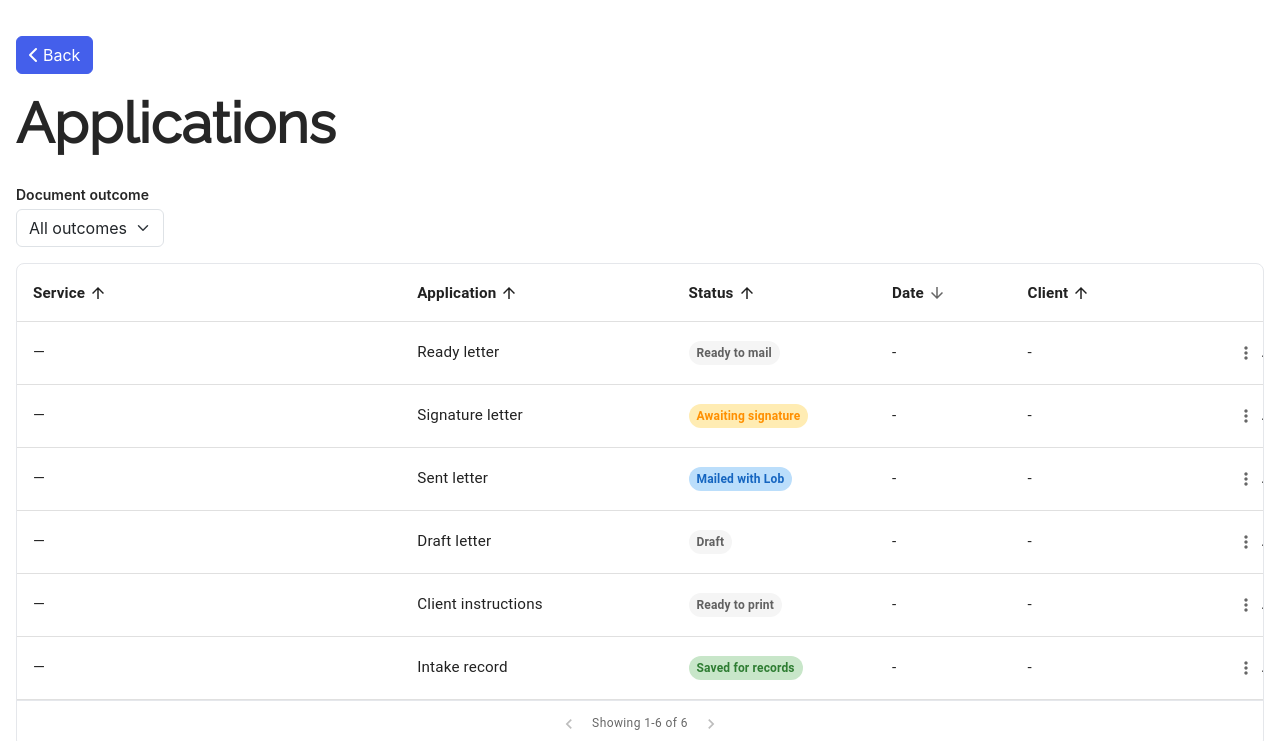
Scenario: filters mail work by readiness and preserves print and record statuses
Expected: the text "Ready letter" is shown, [401,322,672,385]
Expected: the text "Ready to print" is shown, [688,593,782,617]
Select "Mail" in the dropdown labelled "Document outcome" at (90, 228), box [16,209,164,247]
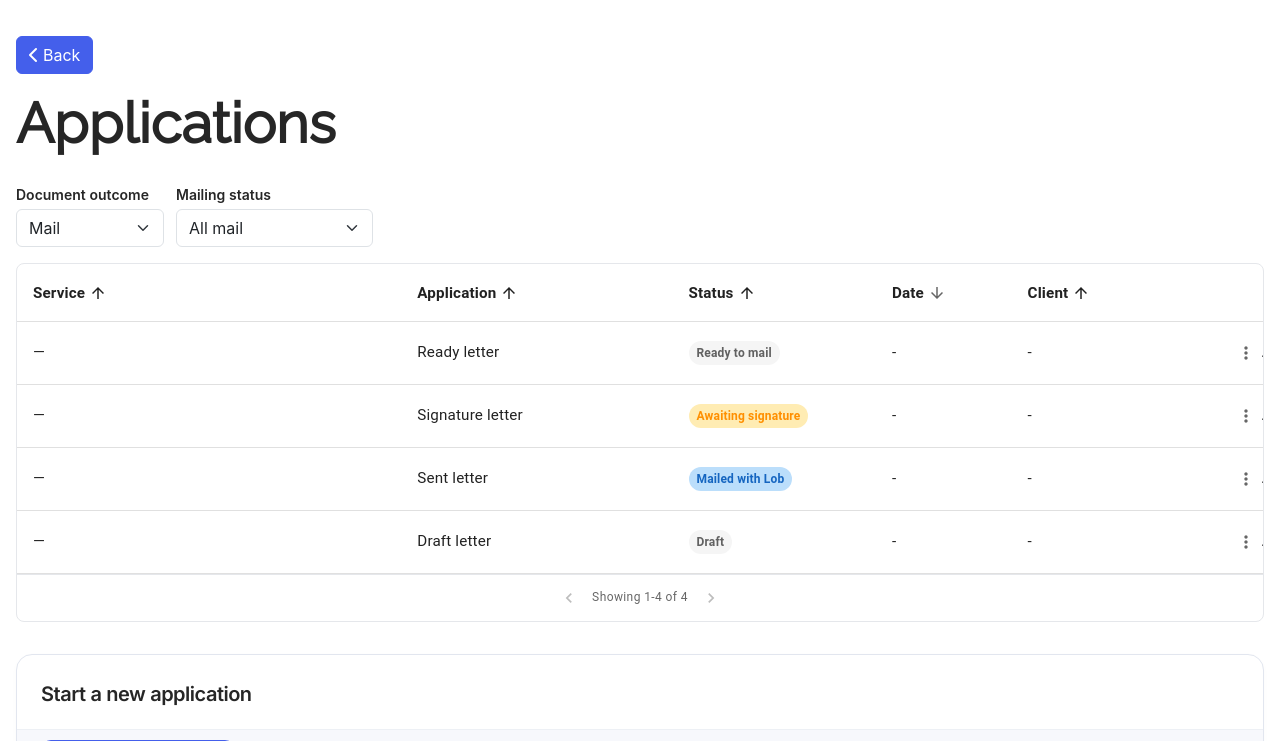
Now the button "Client instructions" is gone
Select "Needs to be mailed" in the dropdown labelled "Mailing status" at (274, 228), box [176,209,373,247]
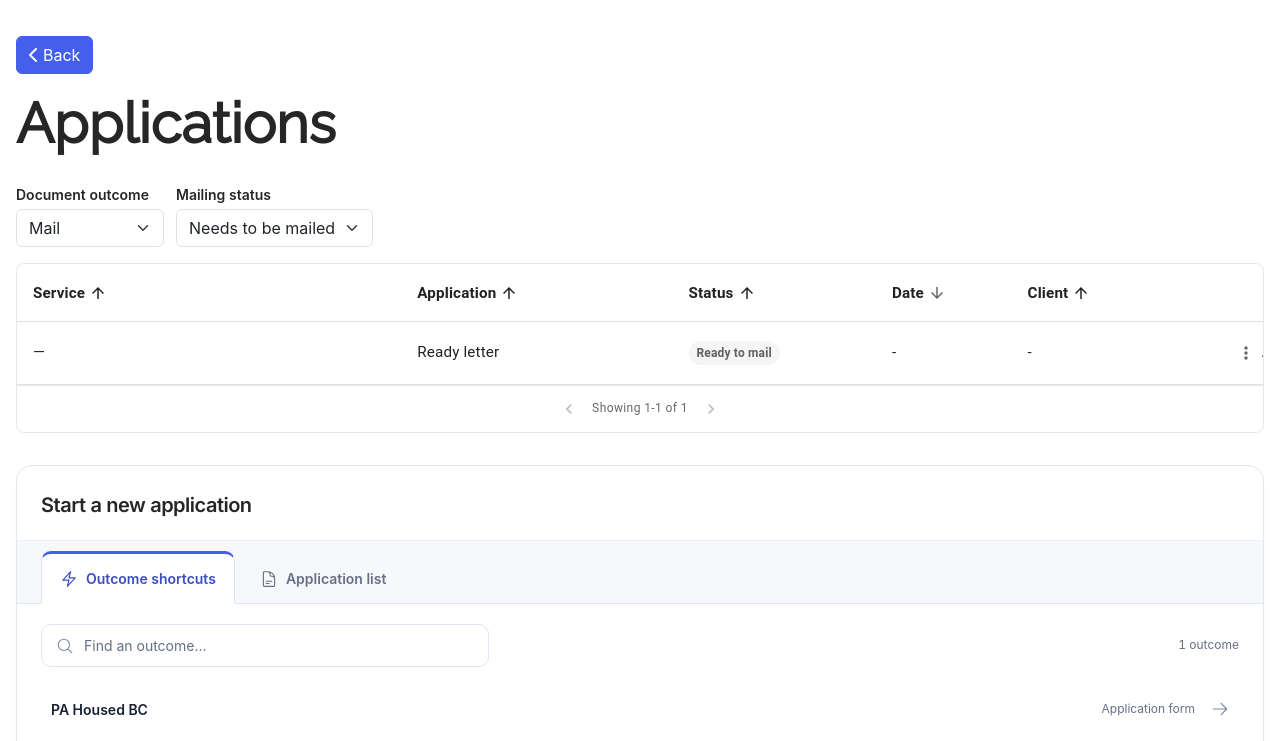
Now the button "Signature letter" is gone
Now the button "Sent letter" is gone
Now the button "Draft letter" is gone
Select "Already mailed" in the dropdown labelled "Mailing status" at (274, 228), box [176,209,373,247]
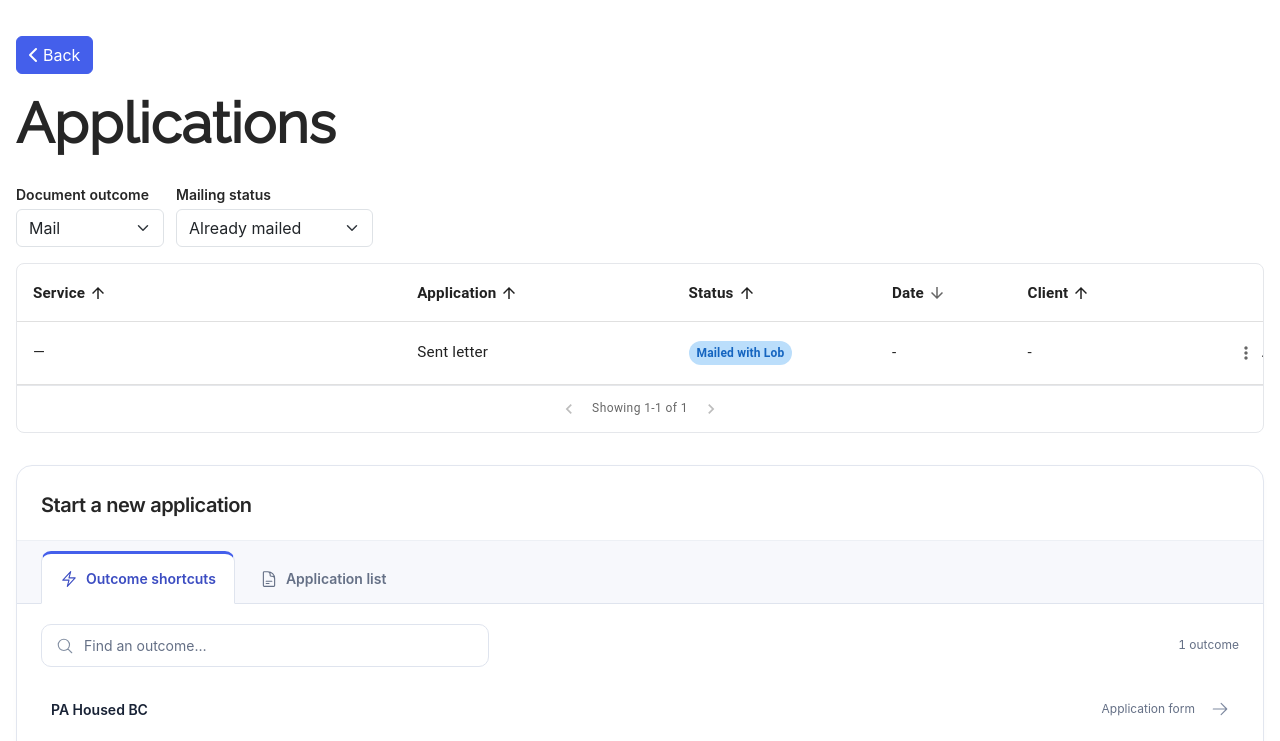
Now the text "Sent letter" is shown, box [401,322,672,385]
Select "Print only" in the dropdown labelled "Document outcome" at (90, 228), box [16,209,164,247]
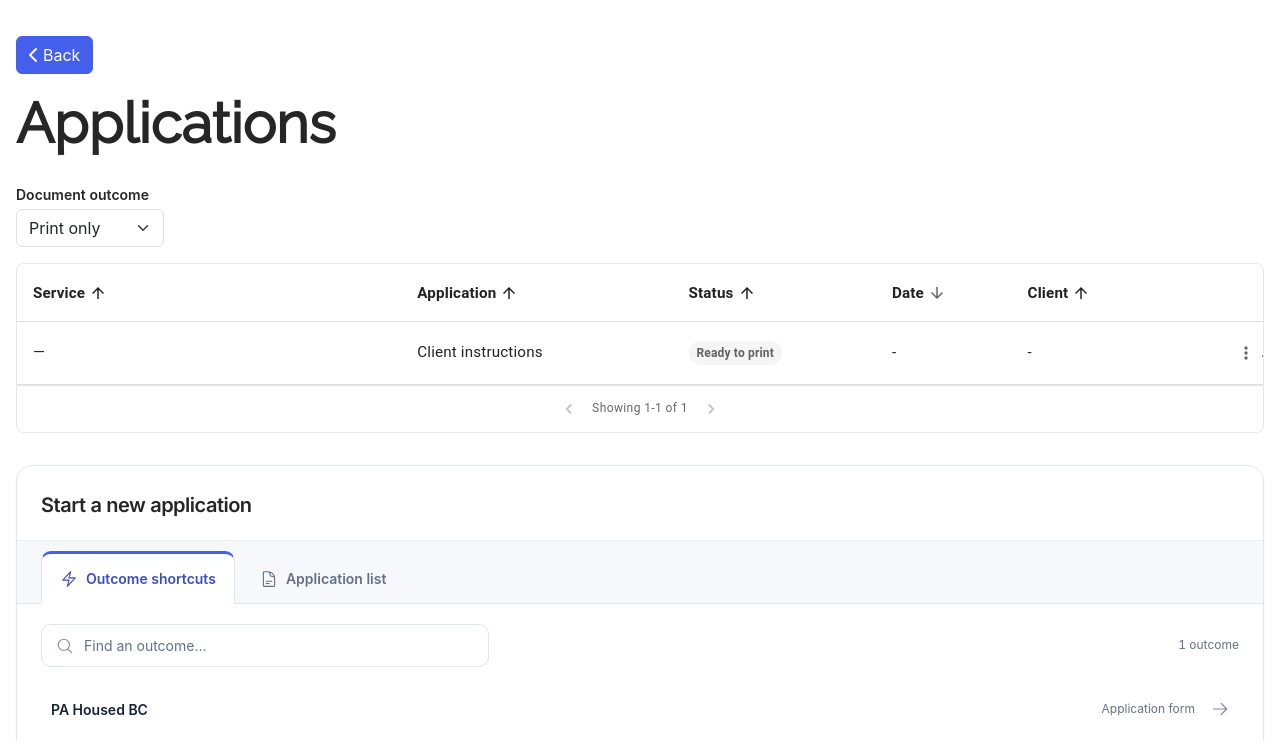
Now the text "Client instructions" is shown, box [401,322,672,385]
Now the label labelled "Mailing status" is gone
